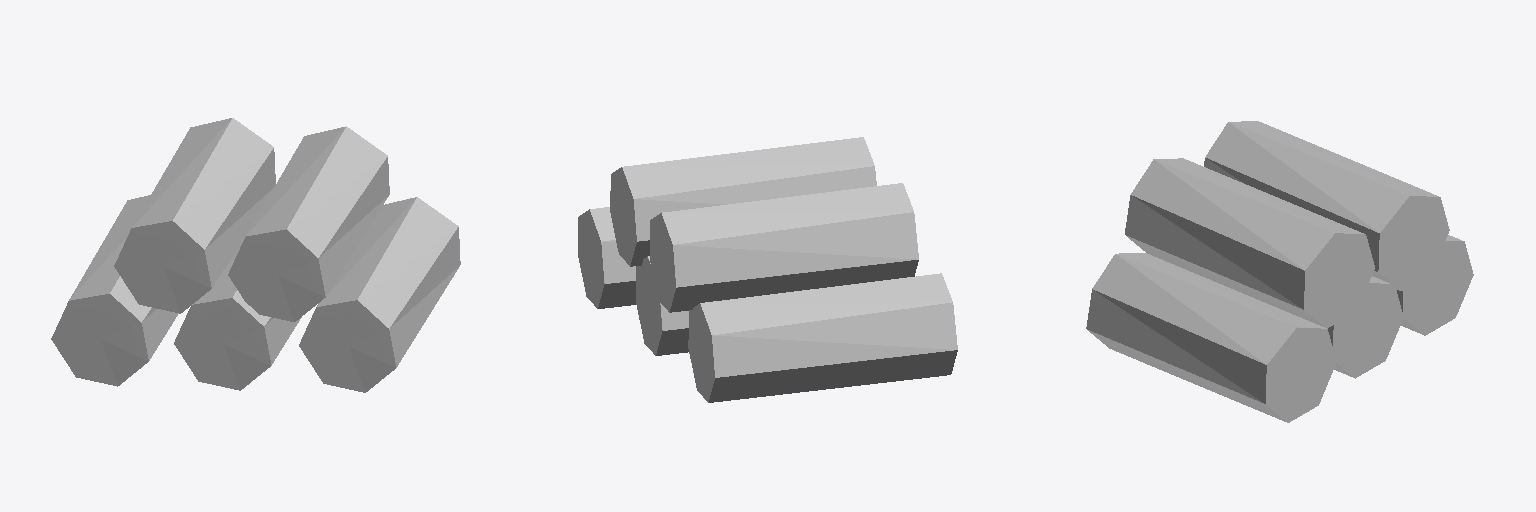
The model's file is wood.obj.
3 renders of one model, left to right at view 1: azimuth 30°, elevation 25°; view 2: azimuth 150°, elevation 25°; view 3: azimuth 270°, elevation 25°, orthographic.
Visible parts, largest first — view 1: Wood pCylinder21, Wood pCylinder20, Wood pCylinder19, pCylinder17 Wood, Wood pCylinder18; view 2: pCylinder17 Wood, Wood pCylinder21, Wood pCylinder20, Wood pCylinder19, Wood pCylinder18; view 3: Wood pCylinder19, Wood pCylinder20, Wood pCylinder21, Wood pCylinder18, pCylinder17 Wood.
Boxes of the visible parts, x1,y1,x2,y2 form: Wood pCylinder21: [114, 118, 275, 313]; Wood pCylinder20: [228, 126, 389, 321]; Wood pCylinder19: [299, 197, 460, 392]; pCylinder17 Wood: [51, 195, 178, 386]; Wood pCylinder18: [174, 212, 301, 390]; pCylinder17 Wood: [688, 273, 957, 402]; Wood pCylinder21: [650, 183, 918, 312]; Wood pCylinder20: [610, 137, 876, 266]; Wood pCylinder19: [578, 207, 635, 308]; Wood pCylinder18: [636, 256, 688, 355]; Wood pCylinder19: [1086, 253, 1336, 422]; Wood pCylinder20: [1125, 158, 1374, 328]; Wood pCylinder21: [1204, 121, 1449, 290]; Wood pCylinder18: [1328, 276, 1403, 378]; pCylinder17 Wood: [1397, 235, 1473, 335].
Bounding box in the file's own units: 2.24 × 0.8746 × 1.9.